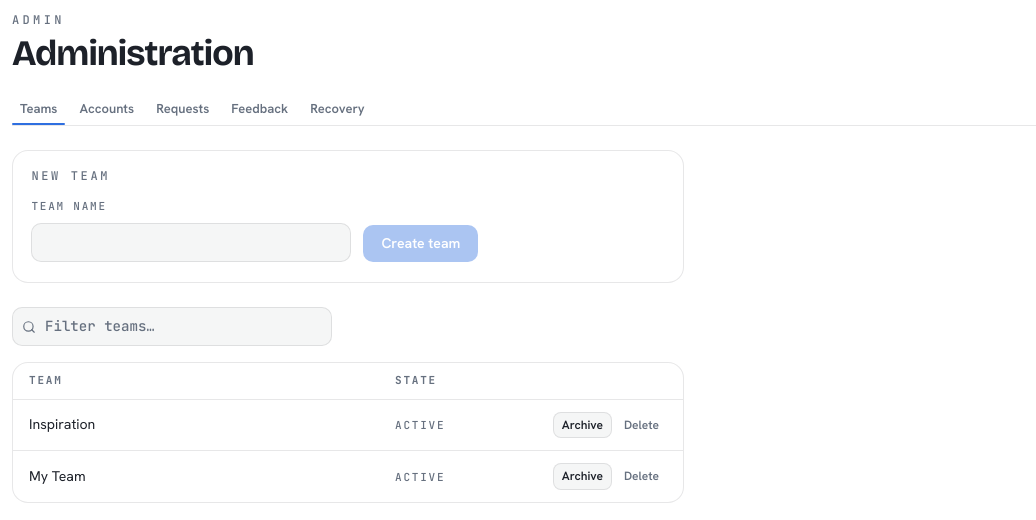
Test: AdminPage › the Accounts tab filters its rows by the search field
Expected: the text "My Team" is shown, [13,451,379,502]
Click the tab "Accounts" at (107, 110), box [71,96,142,125]
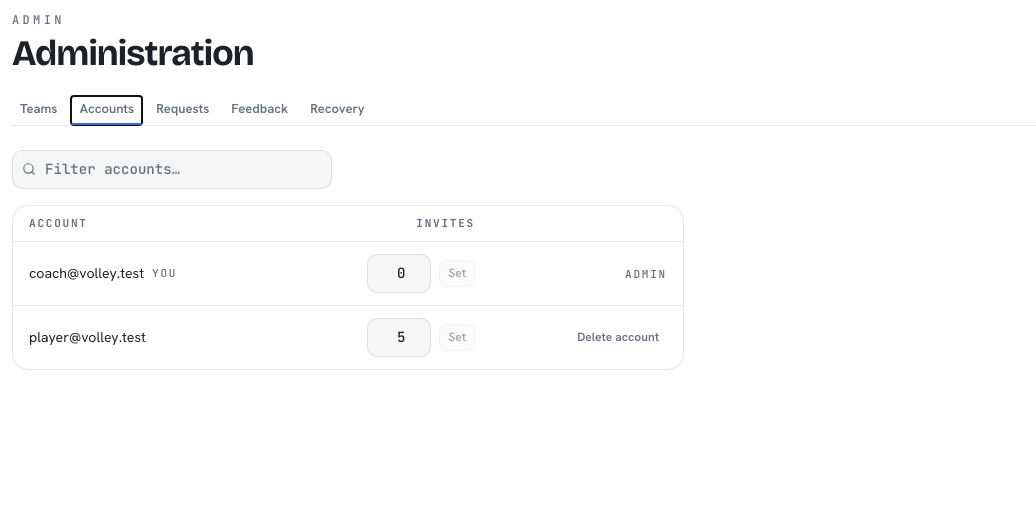
Expected: the text "coach@volley.test" is shown, [29,263,144,284]
Type "player" into the field labelled "Filter accounts…" at (172, 169), box [12,150,332,189]
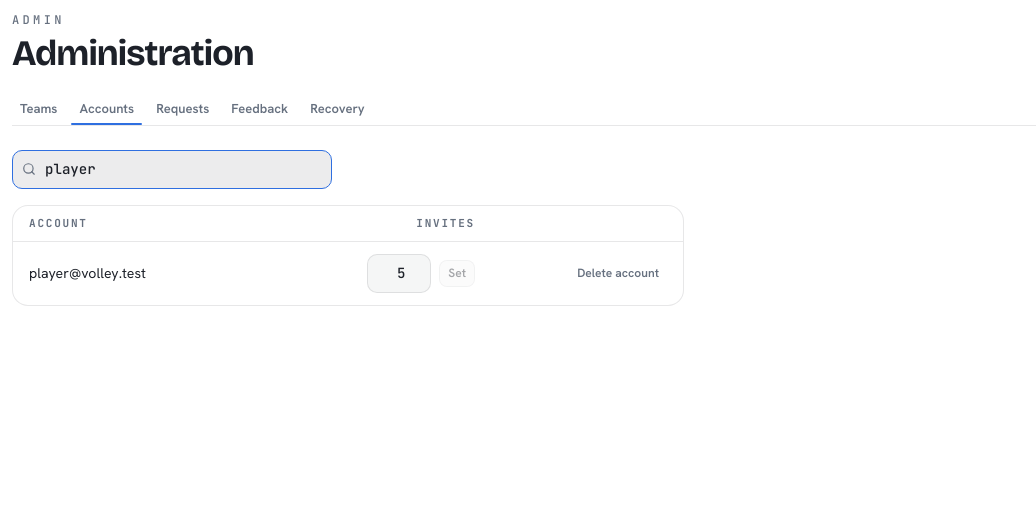
Expected: the text "player@volley.test" is shown, [29,263,146,284]
Expected: the text "coach@volley.test" is gone
